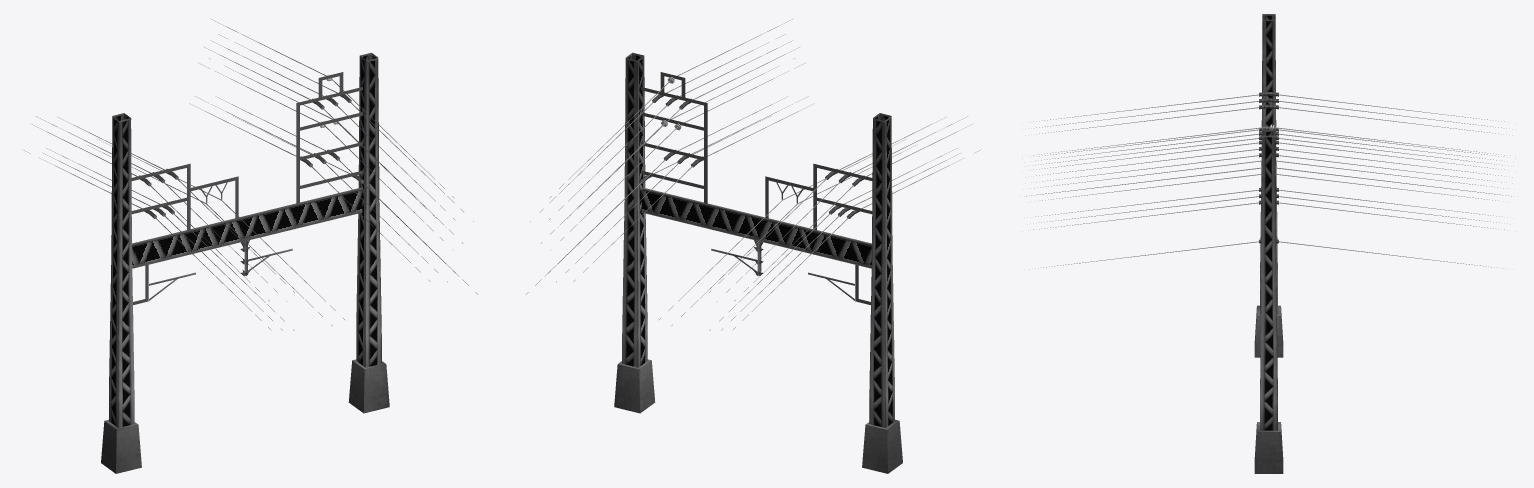
The model's file is KASENCHU00.glb.
3 views of the same model, side by side, from view 1: azimuth 30°, elevation 25°; view 2: azimuth 150°, elevation 25°; view 3: azimuth 270°, elevation 25° (orthographic). The views are drawn at different scales.
Visible parts, largest first — view 1: Base_Block; view 2: Base_Block; view 3: Base_Block.
Part boxes in pixels (x1=…): Base_Block: x1=24, y1=19, x2=477, y2=473; Base_Block: x1=526, y1=19, x2=979, y2=473; Base_Block: x1=1026, y1=14, x2=1511, y2=473.
Size of the model in its own units: 30.3 by 36.82 by 50.
5 materials, 5 textured.
